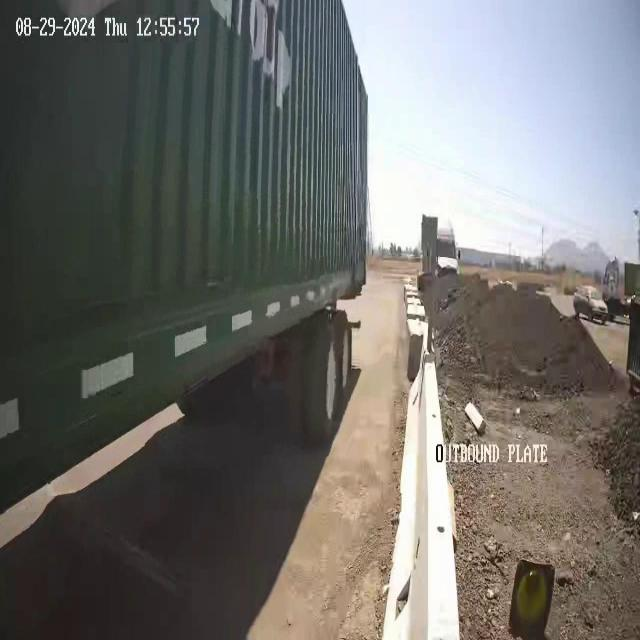TRUCK_OUT: (1, 1, 369, 482)
